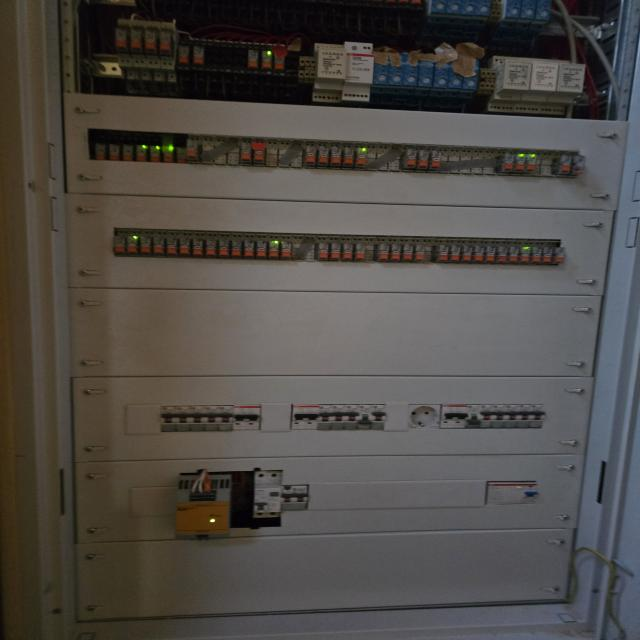Dimmer: (538, 59, 586, 115), (488, 56, 533, 112), (513, 58, 558, 113), (341, 41, 375, 102), (312, 42, 345, 102), (389, 52, 405, 86), (449, 56, 464, 90), (405, 54, 419, 88), (374, 54, 389, 85), (436, 55, 448, 90), (464, 59, 477, 91), (420, 56, 433, 88), (429, 0, 448, 17), (538, 1, 552, 23), (522, 0, 536, 22), (476, 0, 492, 19), (448, 0, 463, 18), (506, 0, 521, 18), (463, 0, 476, 18)
FI: (486, 481, 537, 504)
FI_Sicherungskombi: (254, 470, 282, 518)
Leitungsschutzschalter: (160, 406, 175, 432), (175, 406, 190, 431), (205, 406, 219, 432), (233, 405, 247, 431), (292, 404, 306, 430), (332, 404, 346, 430), (358, 404, 372, 430), (190, 406, 204, 431), (294, 485, 308, 510), (220, 406, 233, 432), (372, 405, 386, 429), (442, 404, 456, 428), (247, 405, 260, 430), (518, 405, 532, 428), (306, 404, 318, 430), (319, 404, 331, 430), (346, 404, 358, 430), (492, 404, 505, 428), (505, 404, 518, 428), (456, 404, 468, 429), (468, 404, 480, 429), (480, 404, 492, 429), (532, 404, 544, 429), (282, 485, 294, 510)
Relais: (114, 28, 128, 53), (158, 30, 172, 55), (554, 155, 571, 175), (129, 28, 142, 52), (144, 29, 156, 54), (499, 153, 514, 173), (572, 155, 586, 176), (186, 139, 199, 160), (433, 245, 448, 262), (245, 50, 259, 68), (240, 142, 252, 163), (342, 146, 354, 167), (402, 150, 416, 168), (318, 145, 329, 167), (178, 45, 190, 65), (253, 143, 265, 163), (429, 150, 441, 170), (192, 46, 205, 64), (139, 236, 152, 254), (375, 244, 388, 262), (162, 145, 174, 164), (356, 148, 367, 168), (94, 143, 106, 161), (514, 154, 526, 172), (126, 236, 138, 254), (280, 242, 292, 260), (316, 242, 328, 260), (354, 243, 366, 261), (331, 146, 342, 165), (149, 145, 161, 162), (153, 237, 165, 254), (205, 239, 217, 256), (306, 146, 316, 166), (418, 150, 428, 170), (526, 153, 536, 173), (261, 50, 272, 68), (179, 237, 190, 255), (192, 238, 203, 256), (256, 240, 267, 258), (330, 242, 341, 260), (402, 244, 413, 262), (268, 241, 280, 257), (274, 50, 284, 69), (109, 144, 120, 161), (122, 144, 133, 161), (114, 236, 125, 253), (166, 238, 177, 255), (473, 246, 484, 263), (497, 245, 508, 262), (520, 246, 531, 263), (554, 247, 565, 264), (244, 240, 254, 258), (391, 244, 401, 262), (136, 145, 147, 161), (219, 240, 230, 256), (231, 241, 242, 257), (176, 146, 186, 163), (343, 243, 353, 260), (450, 245, 460, 262), (462, 245, 472, 262), (486, 246, 496, 263), (542, 247, 552, 264), (415, 244, 424, 262), (532, 247, 542, 263), (510, 246, 519, 262)
Schaltkasten: (40, 0, 640, 634)
Verbinder: (477, 68, 497, 95), (299, 56, 316, 83)
